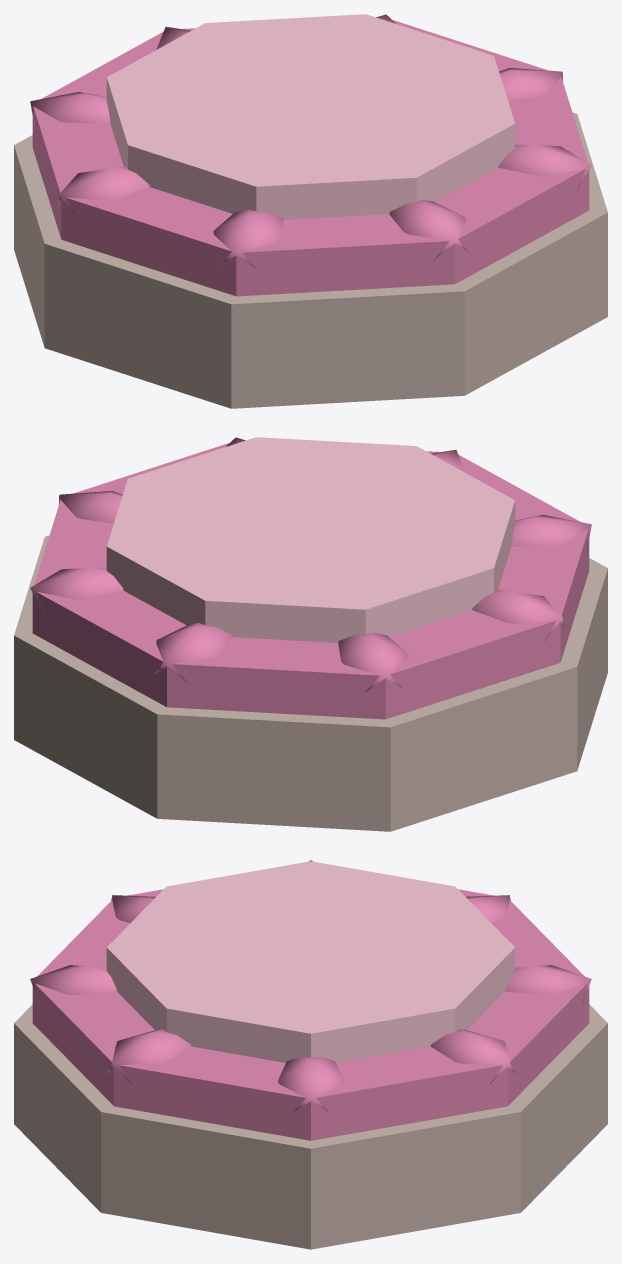
The model's file is Gimmick_SpawnPad.fbx.
The picture shows the model from 3 angles, top to bottom: view 1: azimuth 30°, elevation 25°; view 2: azimuth 150°, elevation 25°; view 3: azimuth 270°, elevation 25°; orthographic projection. The views are drawn at different scales.
Visible parts, largest first — view 1: Gimmick_SpawnPad_Base, Gimmick_SpawnPad_Pad, Gimmick_SpawnPad_Ring, Gimmick_SpawnPad; view 2: Gimmick_SpawnPad_Base, Gimmick_SpawnPad_Pad, Gimmick_SpawnPad_Ring, Gimmick_SpawnPad; view 3: Gimmick_SpawnPad_Base, Gimmick_SpawnPad_Pad, Gimmick_SpawnPad_Ring, Gimmick_SpawnPad.
Boxes of the visible parts, x1,y1,x2,y2 form: Gimmick_SpawnPad_Base: (14, 112, 607, 408); Gimmick_SpawnPad_Pad: (106, 14, 515, 219); Gimmick_SpawnPad_Ring: (32, 20, 589, 296); Gimmick_SpawnPad: (30, 14, 591, 268); Gimmick_SpawnPad_Base: (14, 535, 607, 831); Gimmick_SpawnPad_Pad: (106, 437, 515, 642); Gimmick_SpawnPad_Ring: (32, 443, 589, 719); Gimmick_SpawnPad: (30, 437, 591, 691); Gimmick_SpawnPad_Base: (14, 1004, 607, 1249); Gimmick_SpawnPad_Pad: (106, 861, 515, 1062); Gimmick_SpawnPad_Ring: (32, 889, 589, 1140); Gimmick_SpawnPad: (30, 860, 591, 1112).
Bounding box in the file's own units: 0.64 × 0.21 × 0.64.
